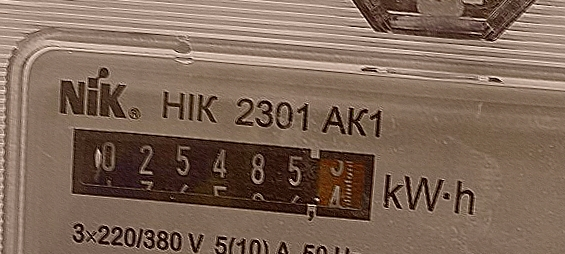0: (95, 137, 119, 174)
2: (134, 141, 157, 177)
4: (207, 144, 231, 180), (324, 181, 345, 211)
5: (281, 151, 306, 190), (170, 141, 193, 178)
8: (245, 148, 269, 188)
screen: (57, 118, 385, 233)
